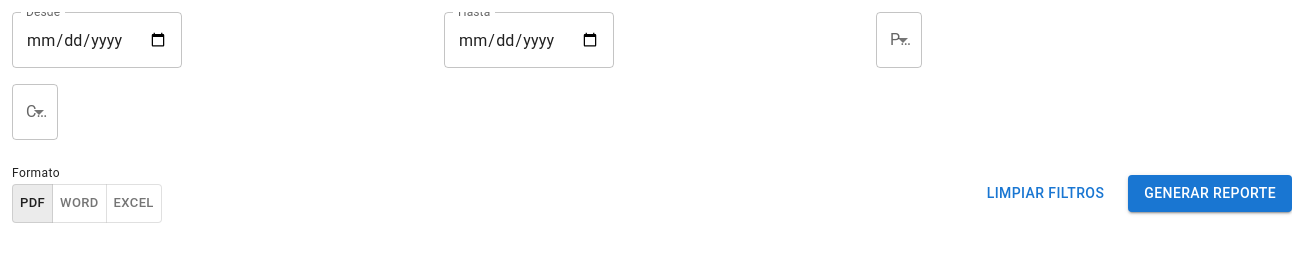
Test case: ReportForm › no envía un rango de fechas invertido
Type "2026-10-10" into the date field labelled "Desde" at (97, 40), box [12, 12, 182, 68]
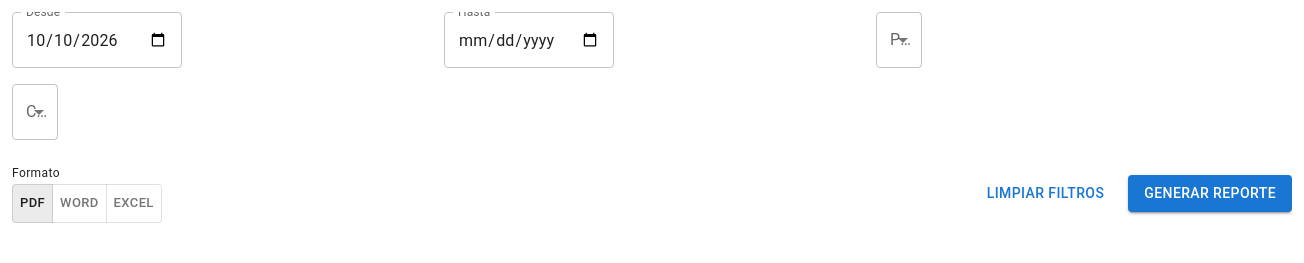
Type "2026-10-01" into the date field labelled "Hasta" at (529, 40), box [444, 12, 614, 68]
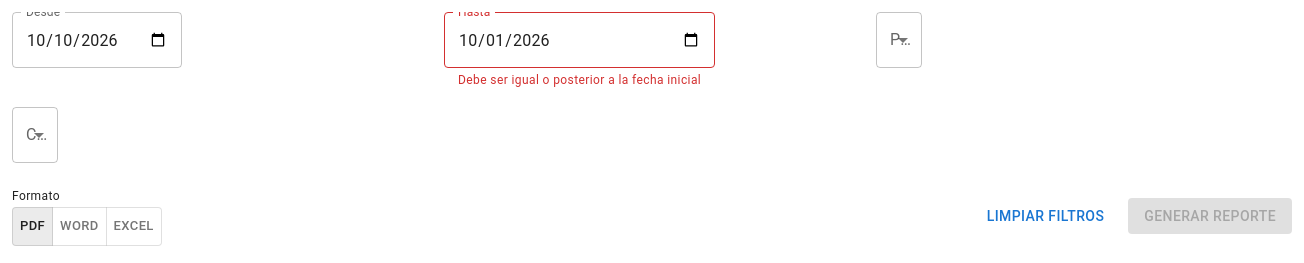
Check: the text "Debe ser igual o posterior a la fecha inicial" is shown, box [458, 71, 701, 91]
Check: the button "Generar reporte" is disabled, box [1128, 198, 1292, 234]
